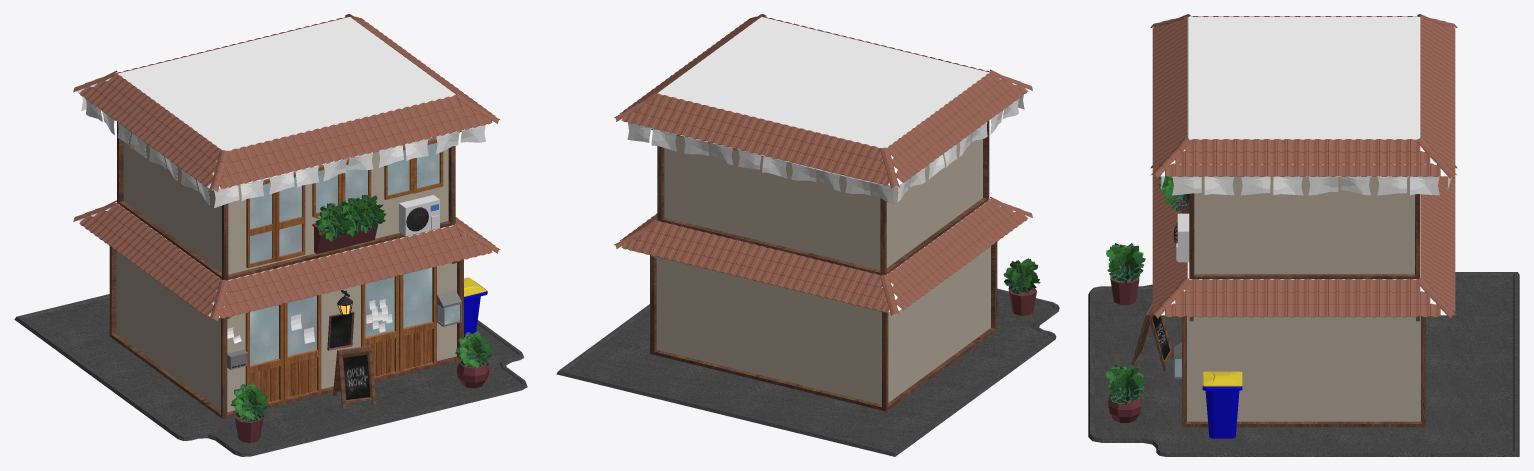
File: japanese_vendor.glb
3 renders of one model, left to right at view 1: azimuth 30°, elevation 25°; view 2: azimuth 150°, elevation 25°; view 3: azimuth 270°, elevation 25°, orthographic. The views are drawn at different scales.
Visible parts, largest first — view 1: Cube, Plane, rooftile.001, Cube.001, rooftile, Cube.010, Cube.002, Cube.013, Plane.005, Cube.005, Cube.015, Plane.006 (+11 smaller); view 2: Cube.001, Cube.010, Plane, Cube, rooftile.001, rooftile, Plane.005, Plane.006, Cube.011; view 3: Plane, Cube, Cube.001, Cube.010, rooftile.001, rooftile, Plane.005, Cube.018, Plane.006, Plane.007, Cube.005, Cube.015 (+3 smaller).
Part boxes in pixels (left/top/right/bottom): Cube: left=77, top=17, right=492, bottom=317; Plane: left=14, top=294, right=527, bottom=456; rooftile.001: left=73, top=14, right=499, bottom=191; Cube.001: left=109, top=246, right=463, bottom=418; rooftile: left=73, top=200, right=500, bottom=321; Cube.010: left=117, top=121, right=455, bottom=280; Cube.002: left=245, top=266, right=436, bottom=403; Cube.013: left=246, top=138, right=443, bottom=268; Plane.005: left=81, top=96, right=485, bottom=207; Cube.005: left=333, top=346, right=375, bottom=408; Cube.015: left=399, top=195, right=439, bottom=236; Plane.006: left=230, top=383, right=268, bottom=421; Cube.001: left=650, top=241, right=997, bottom=411; Cube.010: left=657, top=121, right=989, bottom=275; Plane: left=556, top=288, right=1059, bottom=456; Cube: left=621, top=17, right=1029, bottom=311; rooftile.001: left=614, top=14, right=1032, bottom=188; rooftile: left=614, top=197, right=1032, bottom=315; Plane.005: left=627, top=94, right=1024, bottom=204; Plane.006: left=1003, top=258, right=1040, bottom=294; Cube.011: left=1008, top=288, right=1036, bottom=315; Plane: left=1088, top=272, right=1519, bottom=456; Cube: left=1160, top=17, right=1447, bottom=315; Cube.001: left=1182, top=316, right=1425, bottom=427; Cube.010: left=1189, top=176, right=1419, bottom=279; rooftile.001: left=1150, top=14, right=1457, bottom=178; rooftile: left=1150, top=165, right=1457, bottom=318; Plane.005: left=1161, top=176, right=1451, bottom=195; Cube.018: left=1202, top=371, right=1242, bottom=438; Plane.006: left=1106, top=243, right=1145, bottom=283; Plane.007: left=1106, top=364, right=1145, bottom=404; Cube.005: left=1131, top=303, right=1173, bottom=371; Cube.015: left=1173, top=213, right=1189, bottom=262.
Size of the model in its own units: 6.99 by 5.19 by 6.99.
17 materials, 6 textured.
